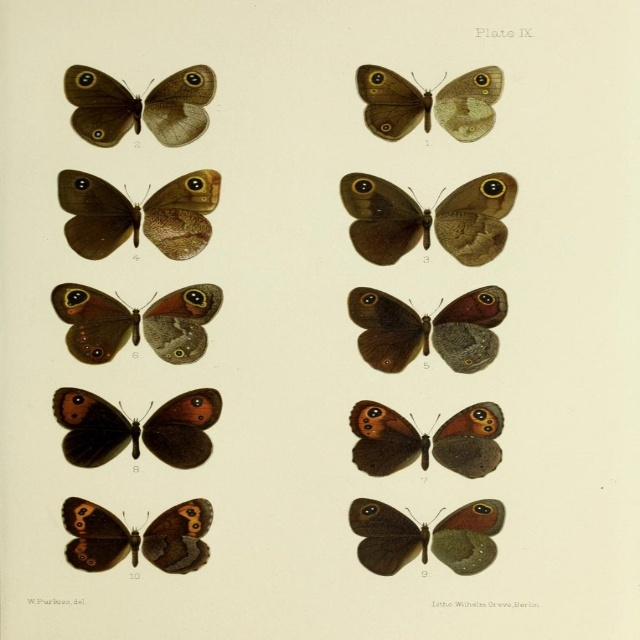Butterfly: (336, 166, 528, 266), (38, 381, 235, 470), (340, 278, 515, 376), (41, 280, 226, 371), (344, 490, 515, 584), (46, 166, 220, 258), (54, 59, 224, 153), (346, 61, 520, 150), (348, 398, 512, 484), (54, 495, 217, 581)
